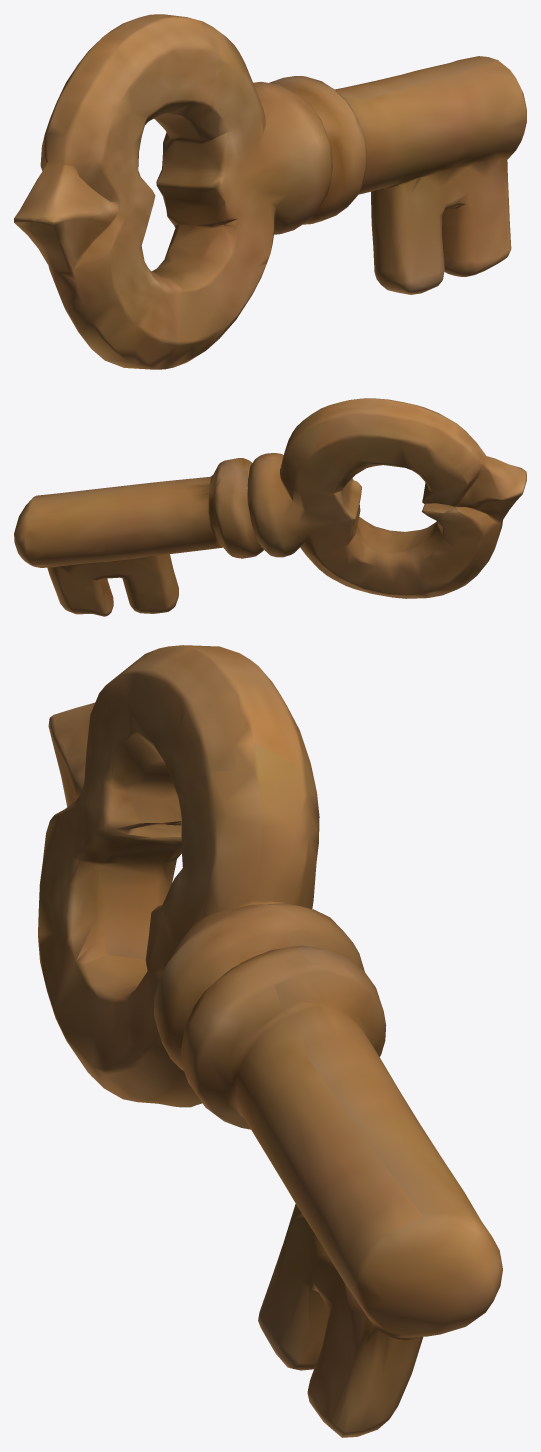
The model's file is llave_pequena_3000.glb.
The picture shows the model from 3 angles, top to bottom: view 1: azimuth 30°, elevation 25°; view 2: azimuth 150°, elevation 25°; view 3: azimuth 270°, elevation 25°; orthographic projection. The views are drawn at different scales.
Visible parts, largest first — view 1: llave_pequena_malla; view 2: llave_pequena_malla; view 3: llave_pequena_malla.
Part boxes in pixels (x1,y1,x2,y2): llave_pequena_malla: (14,14,526,369); llave_pequena_malla: (14,398,526,616); llave_pequena_malla: (38,645,502,1437).
Bounding box in the file's own units: 0.2359 × 0.1353 × 0.1128.
1 material, 1 textured.
